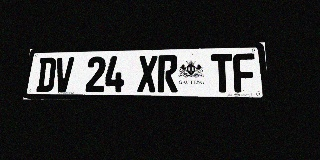2: (85, 56, 106, 92)
4: (104, 56, 125, 92)
D: (36, 57, 57, 92)
F: (233, 53, 257, 93)
R: (157, 55, 178, 92)
T: (211, 54, 234, 93)
V: (53, 57, 74, 92)
X: (137, 55, 158, 92)
